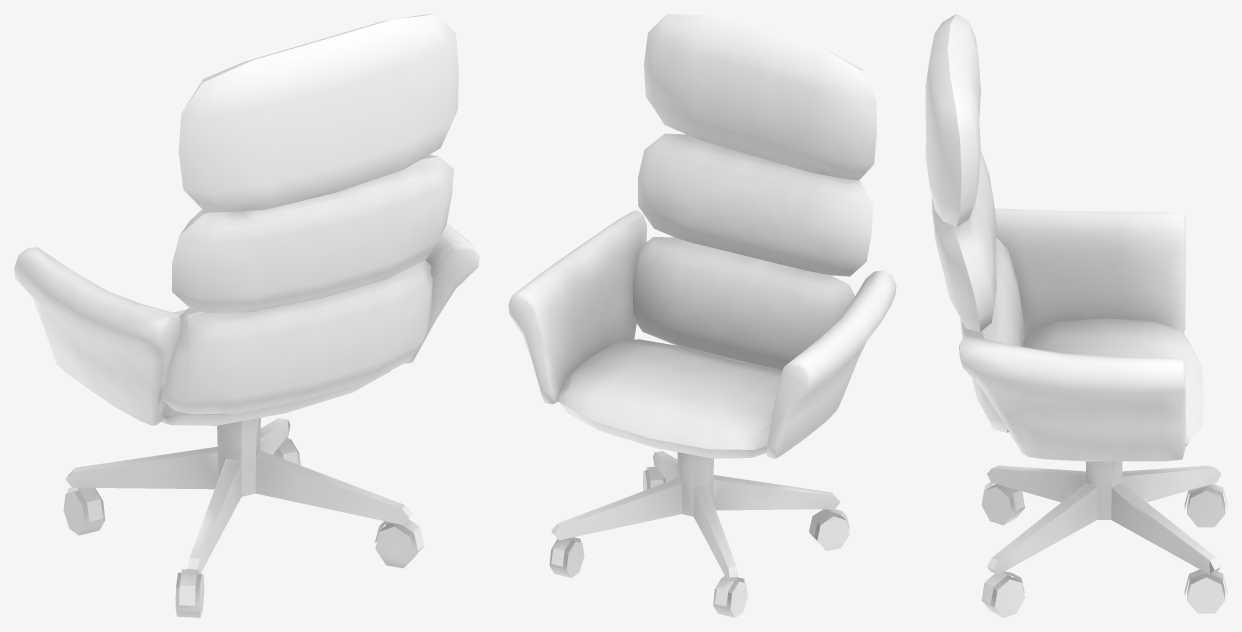
File: OfficeChairBig.glb
3 views of the same model, side by side, from view 1: azimuth 30°, elevation 25°; view 2: azimuth 150°, elevation 25°; view 3: azimuth 270°, elevation 25° (orthographic). The views are drawn at different scales.
Parts seen in each view (by area): view 1: OfficeChairBig, OfficeChairBig.001, OfficeChairBig.002; view 2: OfficeChairBig, OfficeChairBig.001, OfficeChairBig.002; view 3: OfficeChairBig, OfficeChairBig.001, OfficeChairBig.002.
Boxes of the visible parts, left/top/right/bottom form: OfficeChairBig: left=14, top=14, right=479, bottom=425; OfficeChairBig.001: left=65, top=418, right=424, bottom=605; OfficeChairBig.002: left=63, top=439, right=423, bottom=617; OfficeChairBig: left=508, top=14, right=896, bottom=458; OfficeChairBig.001: left=551, top=451, right=850, bottom=606; OfficeChairBig.002: left=549, top=470, right=849, bottom=617; OfficeChairBig: left=925, top=14, right=1203, bottom=461; OfficeChairBig.001: left=982, top=461, right=1227, bottom=603; OfficeChairBig.002: left=981, top=484, right=1225, bottom=617.
Bounding box in the file's own units: 0.8042 × 1.21 × 0.6396.
Materials: 1 (1 with a texture image).
